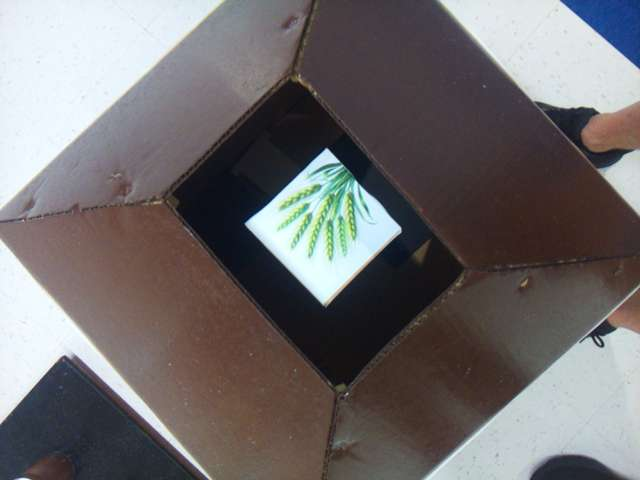wheat_barn: (246, 150, 396, 303)
